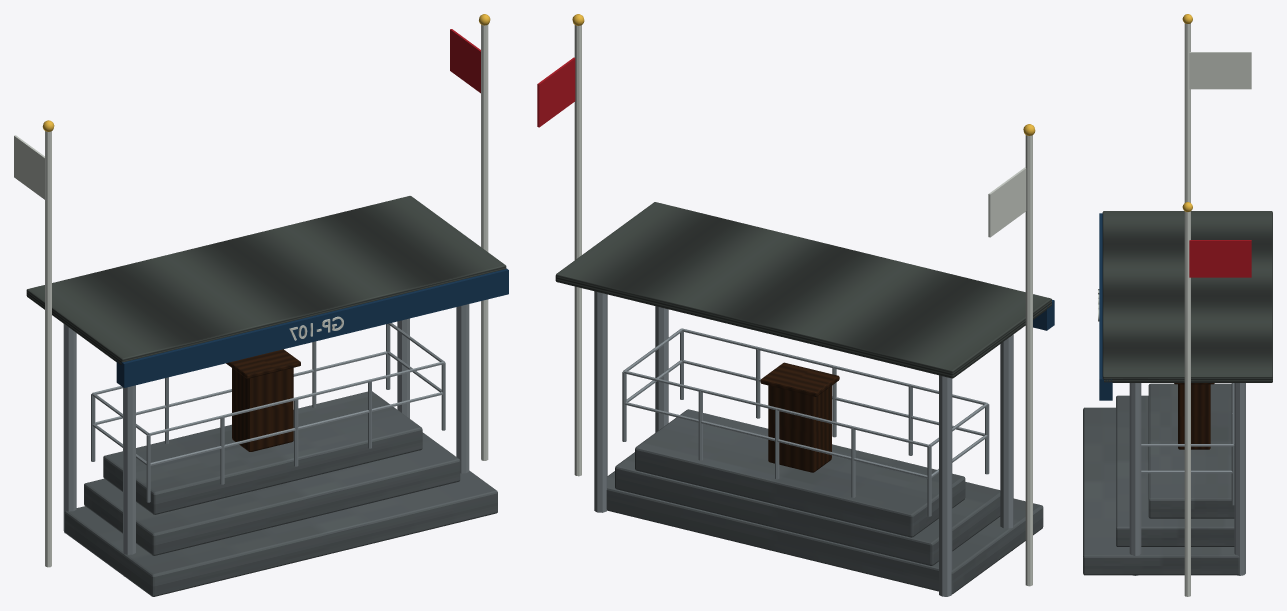
File: fac_stand.glb
3 renders of one model, left to right at view 1: azimuth 30°, elevation 25°; view 2: azimuth 150°, elevation 25°; view 3: azimuth 270°, elevation 25°, orthographic. The views are drawn at different scales.
Parts seen in each view (by area): view 1: FAC_STAND; view 2: FAC_STAND; view 3: FAC_STAND.
Boxes of the visible parts, left/top/right/bottom form: FAC_STAND: left=14, top=14, right=508, bottom=596; FAC_STAND: left=537, top=14, right=1054, bottom=596; FAC_STAND: left=1083, top=14, right=1272, bottom=596.
Bounding box in the file's own units: 6.95 × 6.63 × 2.9.
8 materials, 3 textured.
